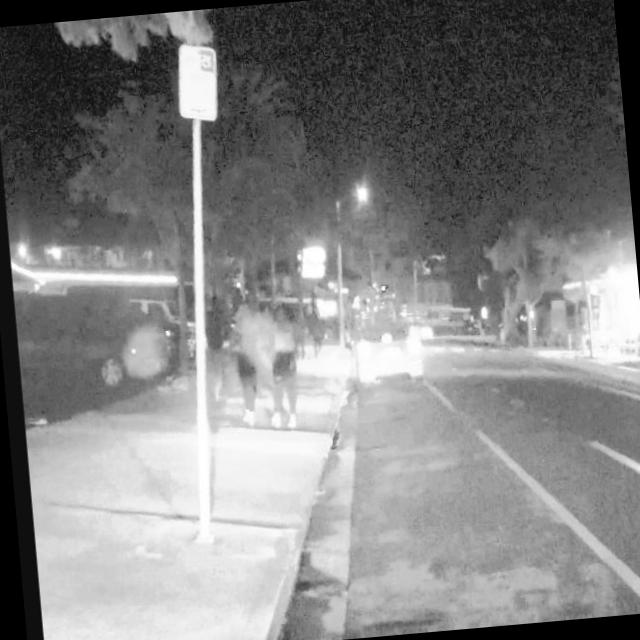Sign: (173, 41, 220, 122)
